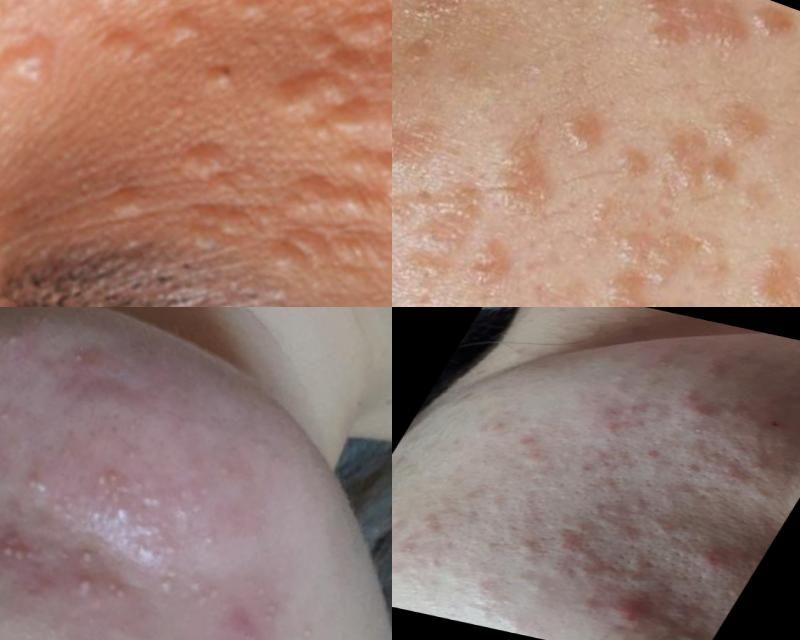blackhead: (594, 565, 629, 586), (678, 463, 711, 483), (543, 553, 577, 572), (572, 558, 601, 579)
flat_wart: (643, 79, 782, 224), (463, 101, 586, 248), (559, 214, 682, 308), (411, 169, 490, 278), (393, 1, 488, 91), (710, 222, 800, 308), (630, 1, 756, 60), (393, 89, 461, 198), (448, 223, 528, 308), (603, 134, 662, 203), (735, 1, 800, 51), (560, 109, 602, 152)
papular: (592, 598, 673, 636), (443, 483, 509, 514), (678, 398, 728, 430), (504, 534, 555, 564), (690, 548, 732, 574), (413, 514, 451, 535), (593, 418, 629, 439), (568, 460, 604, 480), (599, 405, 632, 425), (741, 458, 775, 477), (512, 433, 545, 452), (637, 447, 666, 464), (606, 371, 634, 387)
purulent: (73, 531, 117, 572), (147, 567, 189, 603), (67, 569, 104, 601), (1, 320, 31, 358), (99, 575, 134, 607), (67, 338, 96, 371)
sebo-crystan-conglo: (83, 498, 189, 579), (81, 456, 176, 525), (1, 519, 67, 580), (14, 465, 64, 507), (210, 615, 283, 640)
syringoma: (180, 1, 393, 308), (1, 1, 114, 168)
whitehead: (580, 485, 664, 541), (452, 582, 528, 624), (167, 473, 216, 522), (181, 572, 228, 617), (192, 525, 229, 558), (116, 443, 148, 469), (260, 603, 281, 630), (1, 402, 21, 430), (510, 414, 539, 433), (296, 622, 321, 640), (1, 449, 13, 486), (254, 583, 271, 600)
